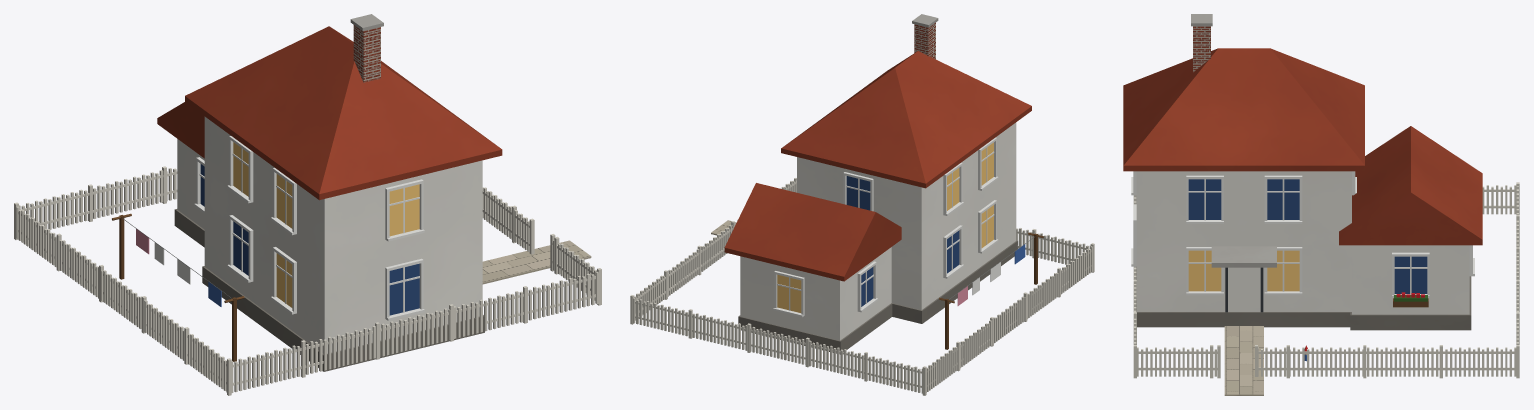
Rendered from dum_18_stare_0.glb.
The picture shows the model from 3 angles, left to right: view 1: azimuth 30°, elevation 25°; view 2: azimuth 150°, elevation 25°; view 3: azimuth 270°, elevation 25°; orthographic projection. The views are drawn at different scales.
Visible parts, largest first — view 1: dum, noc; view 2: dum, noc; view 3: dum, noc.
Part boxes in pixels (box(x1,y1,x2,y2)): dum: box(14, 14, 601, 395); noc: box(233, 142, 419, 307); dum: box(630, 14, 1094, 395); noc: box(777, 142, 993, 312); dum: box(1123, 14, 1519, 395); noc: box(1188, 250, 1299, 291).
Bounding box in the file's own units: 13.06 × 9.18 × 12.05.
Materials: 1 (1 with a texture image).
